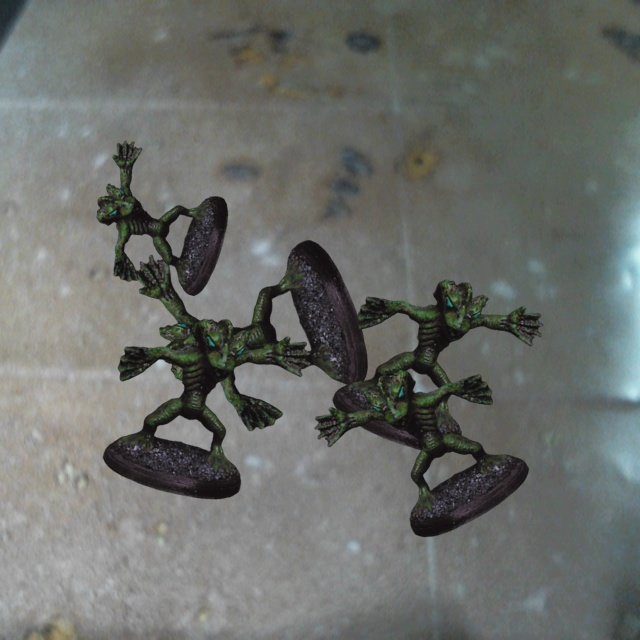pieza_juego: (133, 240, 367, 430), (103, 319, 310, 499), (332, 279, 543, 452), (314, 370, 528, 536), (96, 141, 227, 295)
